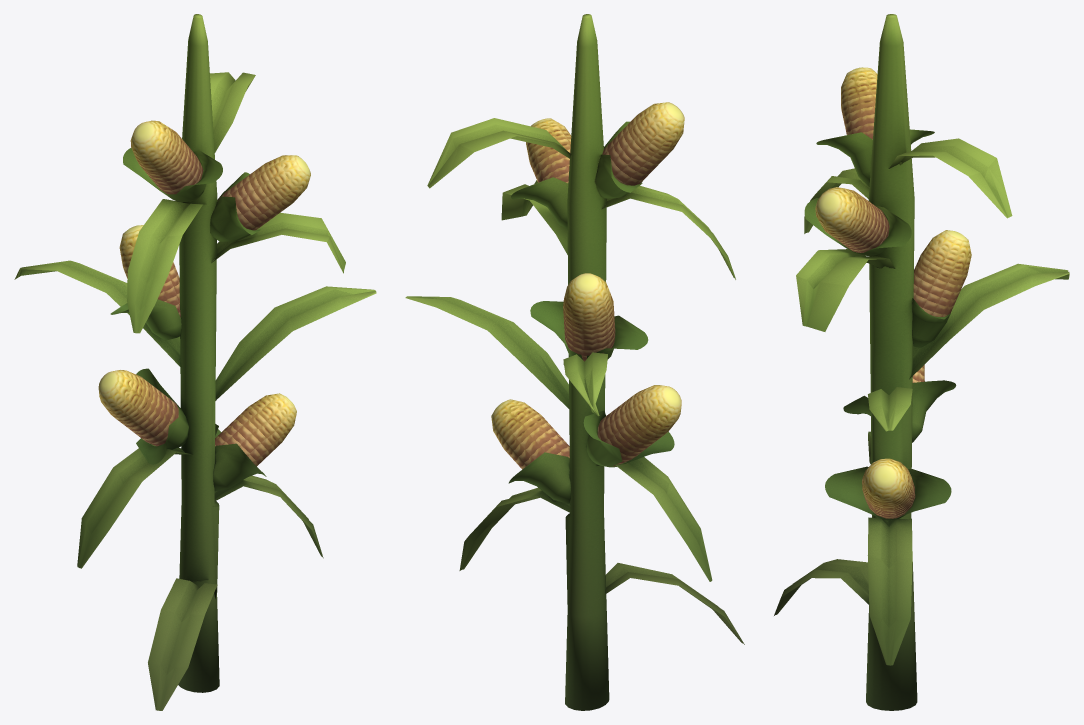
The model's file is corn_Stage_3.fbx.
3 views of the same model, side by side, from view 1: azimuth 30°, elevation 25°; view 2: azimuth 150°, elevation 25°; view 3: azimuth 270°, elevation 25° (orthographic). The views are drawn at different scales.
Parts seen in each view (by area): view 1: Cylinder.001; view 2: Cylinder.001; view 3: Cylinder.001.
Part boxes in pixels (bbox=[...]): Cylinder.001: bbox=[14, 14, 376, 710]; Cylinder.001: bbox=[405, 14, 744, 710]; Cylinder.001: bbox=[774, 14, 1069, 710].
Bounding box in the file's own units: 107 × 229 × 89.57.
Materials: 2 (2 with a texture image).
